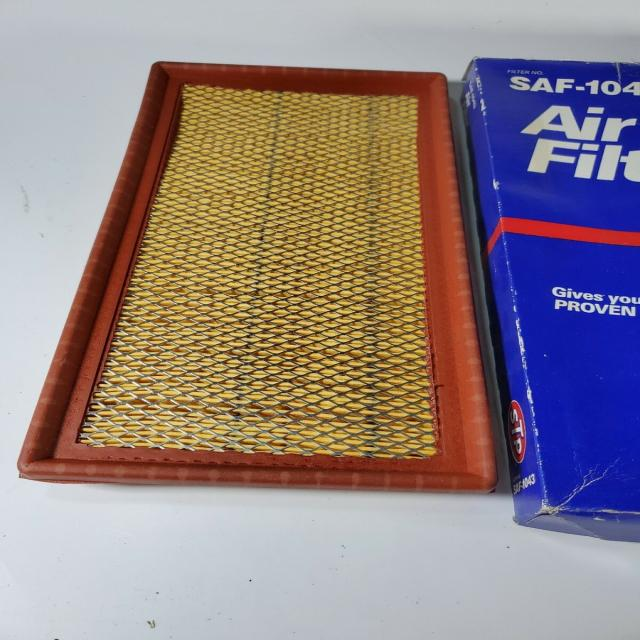air_filter: (15, 50, 499, 489)
